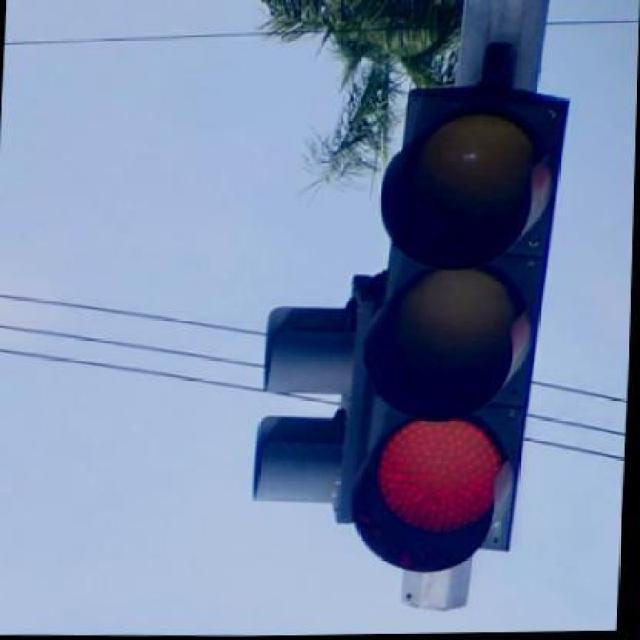Traffic Light -Red-: (317, 80, 574, 585)
